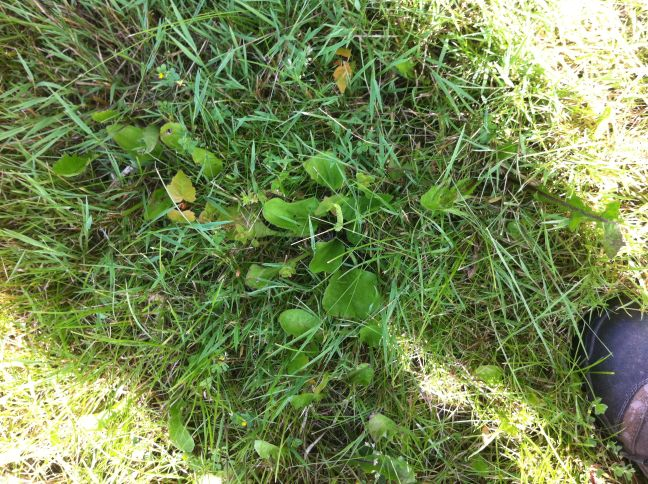weed1: (258, 150, 403, 277), (275, 267, 388, 392)
